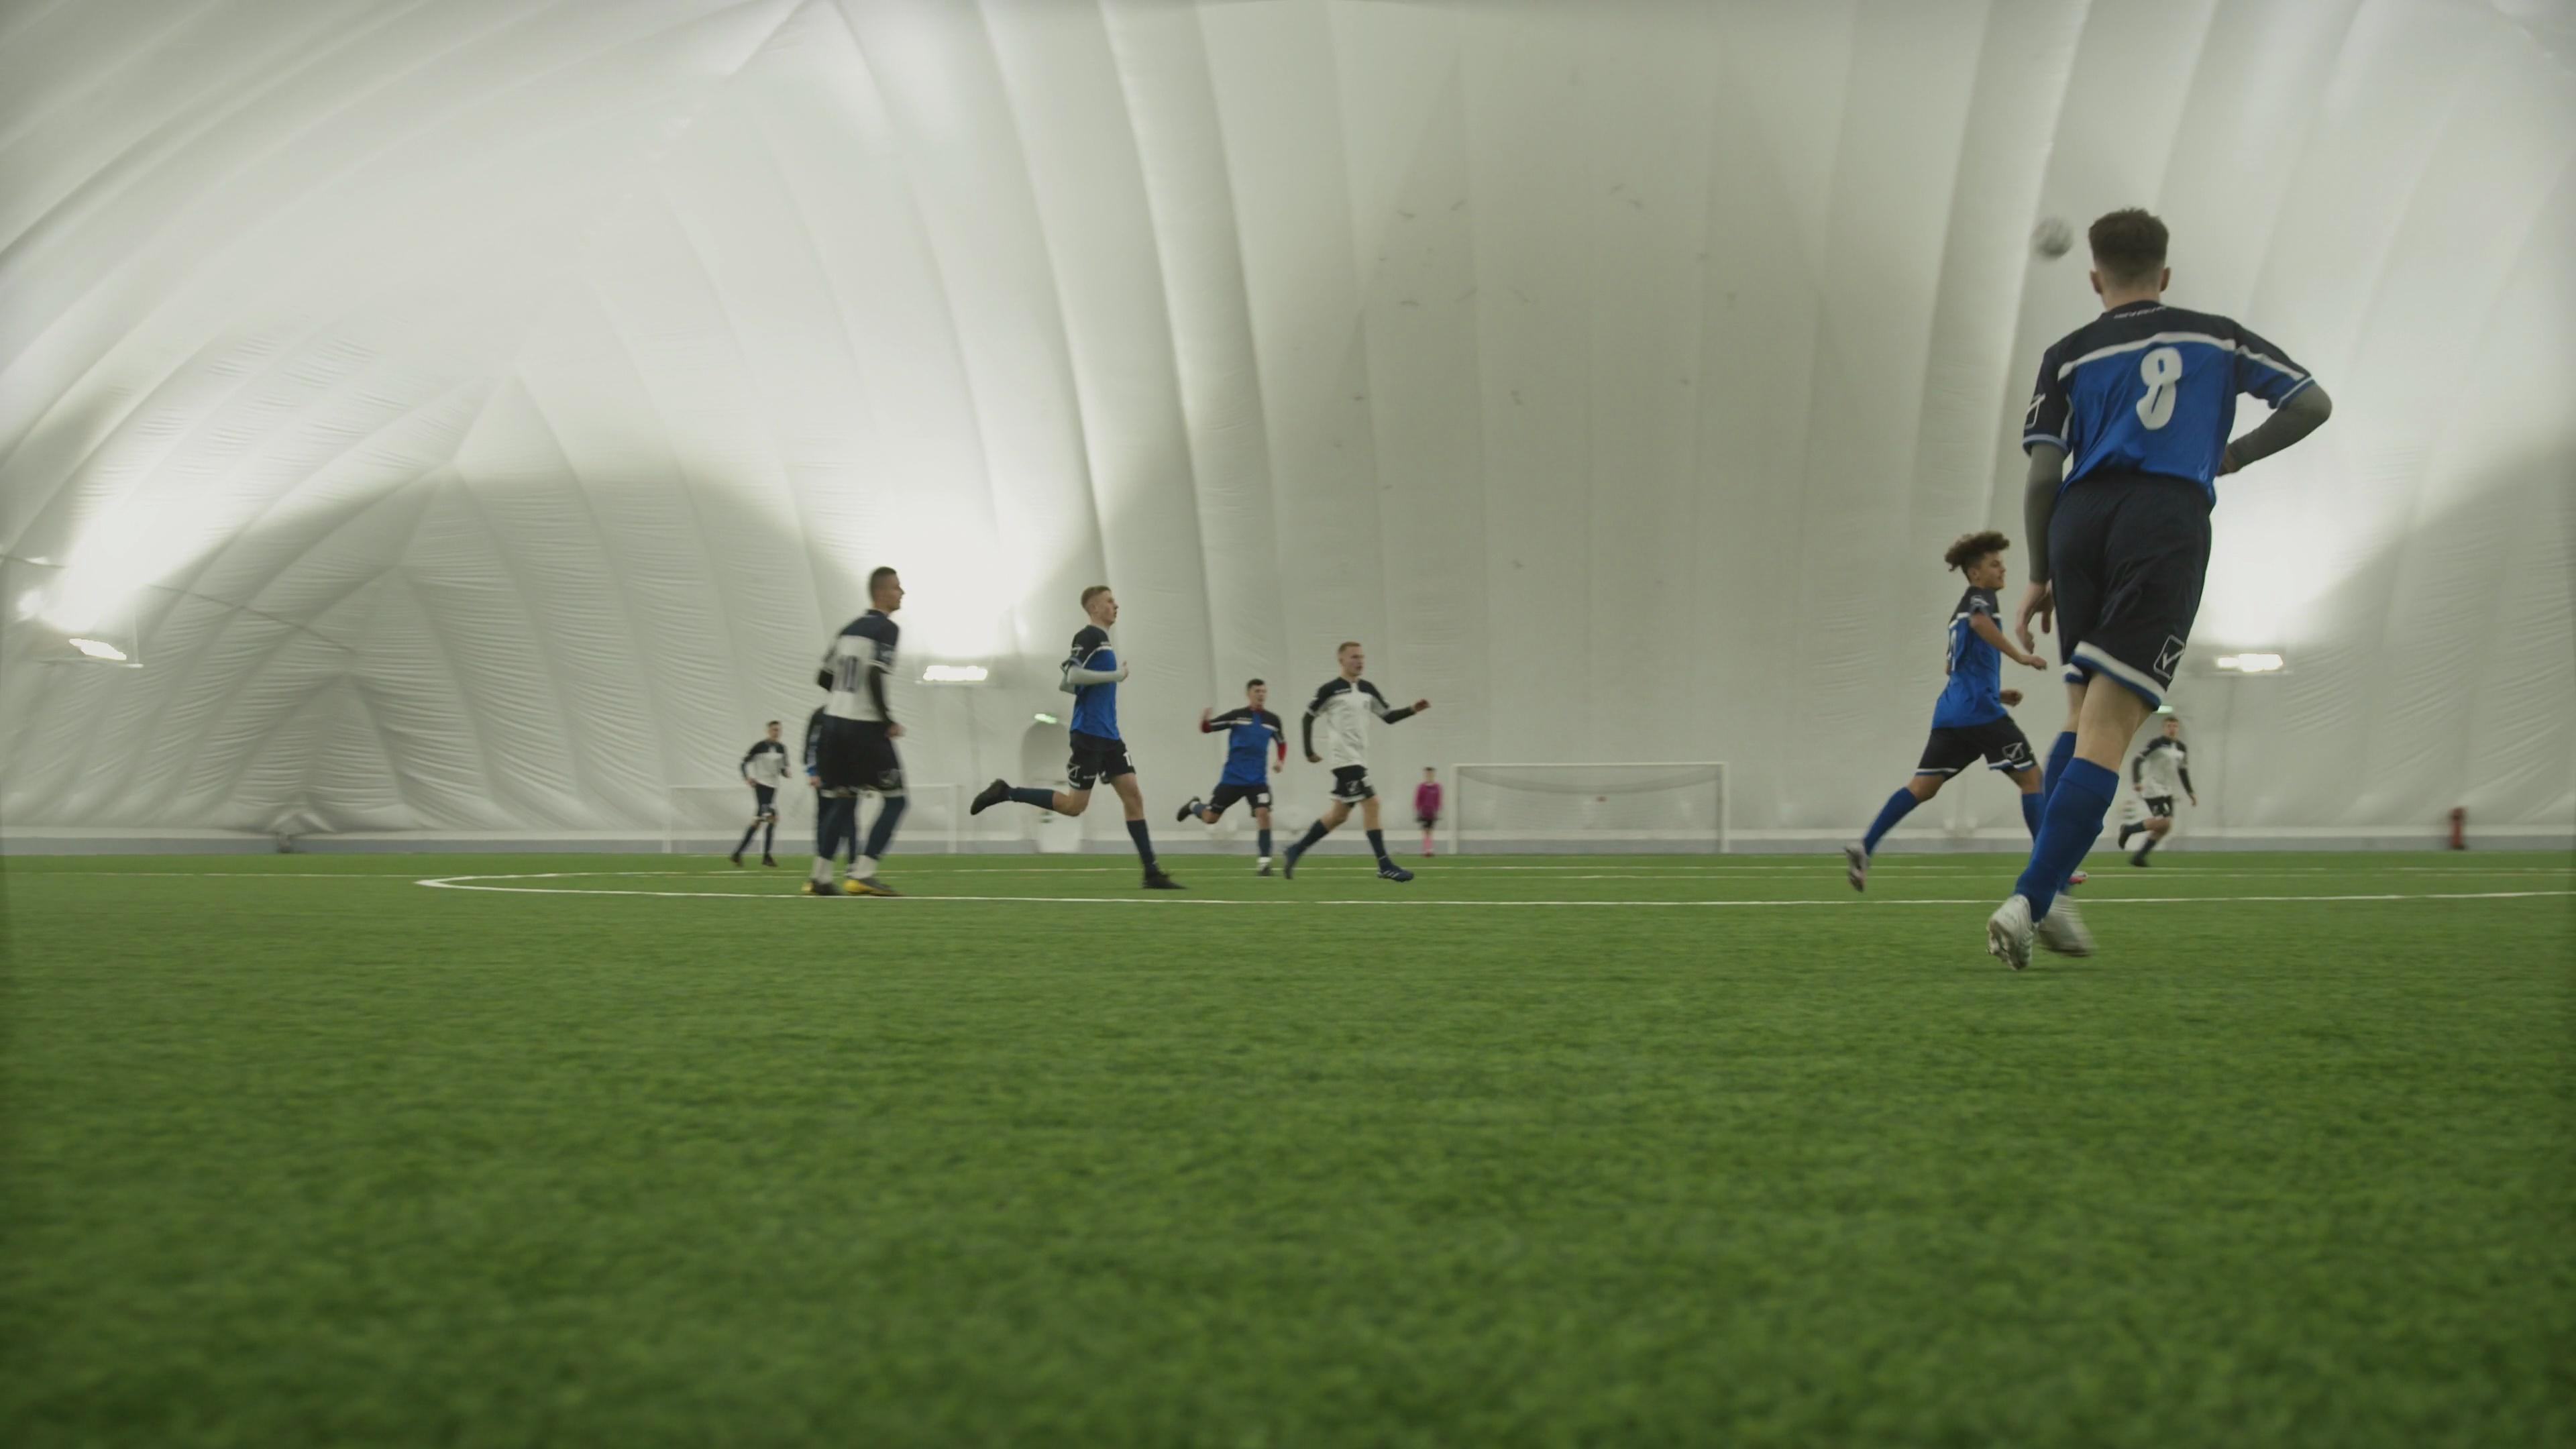team1: (1983, 209, 2330, 975), (1845, 531, 2054, 881), (975, 586, 1175, 892), (1182, 674, 1288, 844)
team1gk: (1414, 755, 1447, 856)
team2: (1270, 637, 1438, 886), (800, 564, 911, 892), (2127, 713, 2199, 869), (727, 720, 789, 869)
